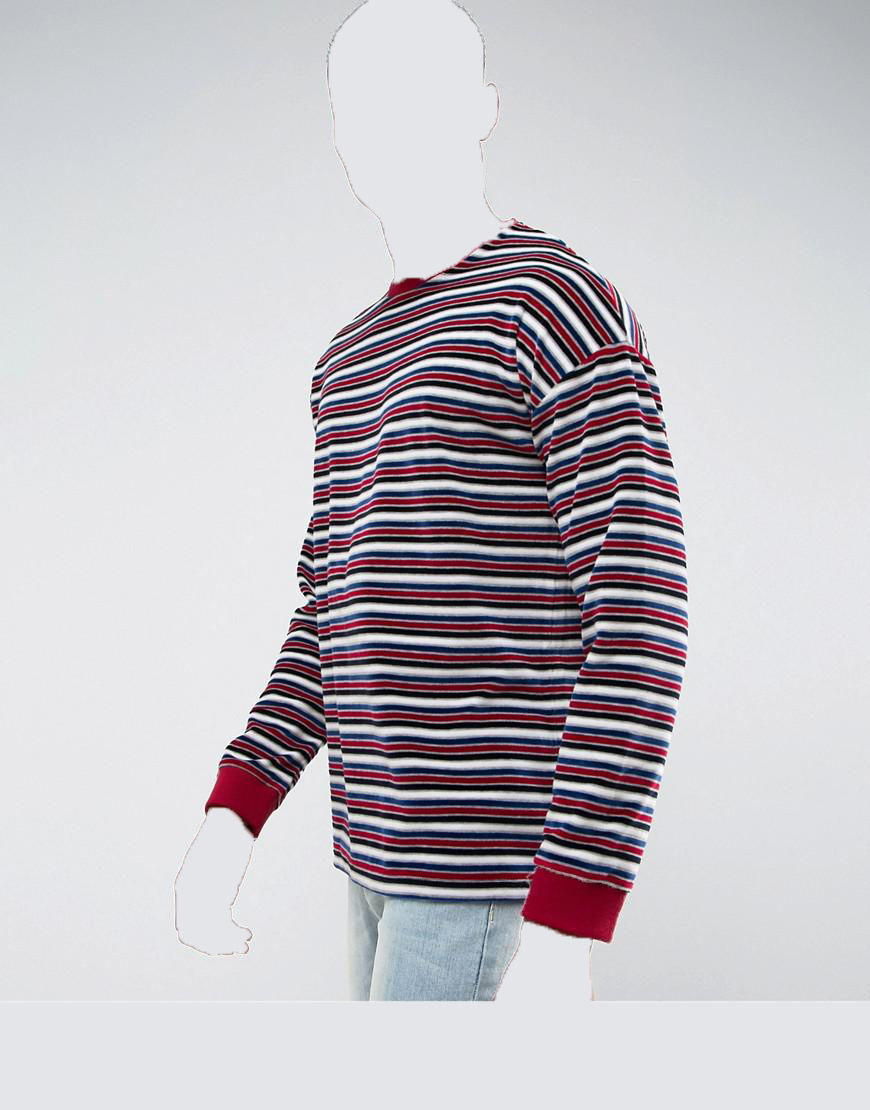teeshirt: (186, 217, 715, 920)
